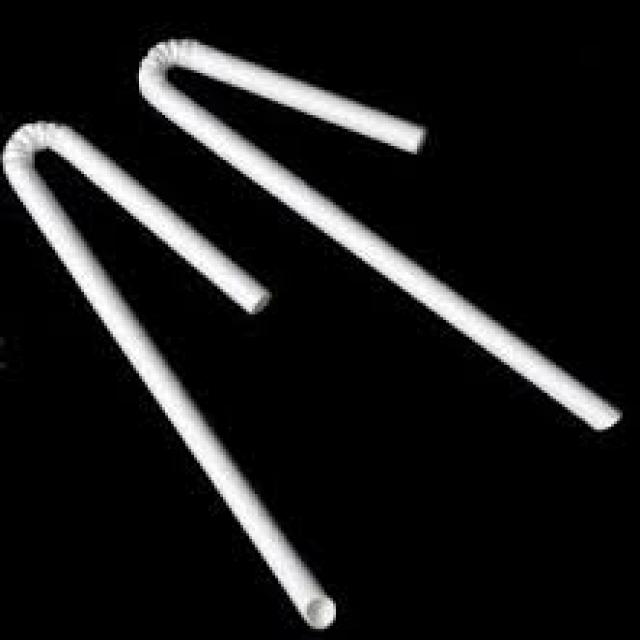straw: (139, 40, 622, 429), (5, 125, 334, 628)
